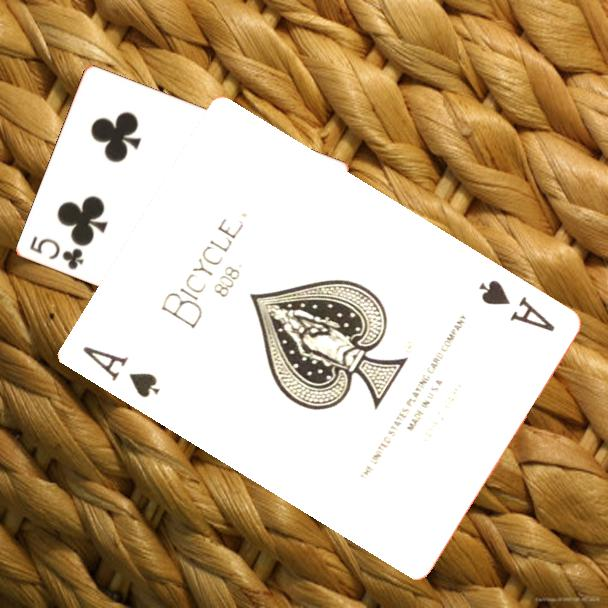c05: (26, 232, 87, 273)
s01: (78, 342, 162, 401), (474, 276, 557, 335)
